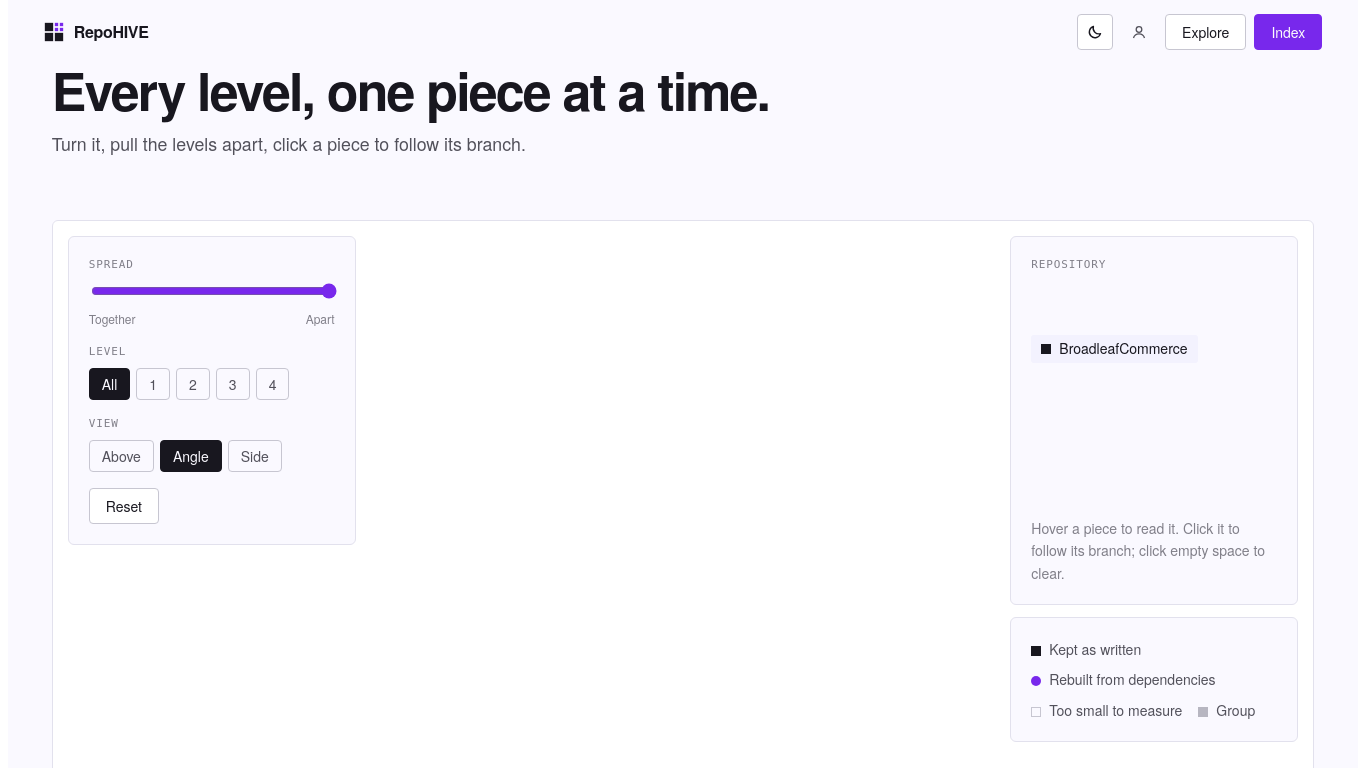
Test: the explorer's controls › isolates a level, changes the view, and resets
(page scrolled)
Click the button "3".
click(233, 384)  # box top-left (216, 368), bottom-right (250, 400)
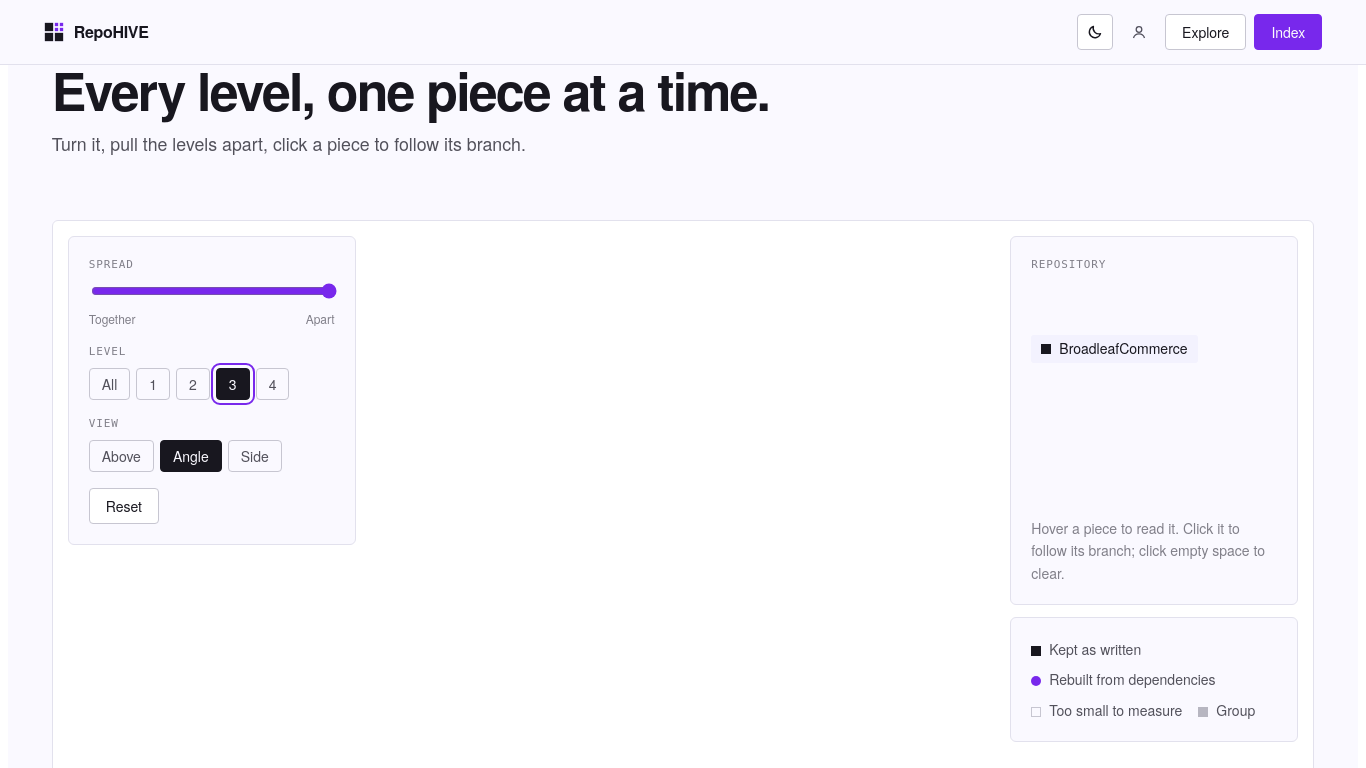
Check: the button "3" is pressed, box top-left (216, 368), bottom-right (250, 400)
Check: the button "All" is not pressed, box top-left (89, 368), bottom-right (130, 400)
Click the button "Above".
click(121, 456)  # box top-left (89, 440), bottom-right (154, 472)
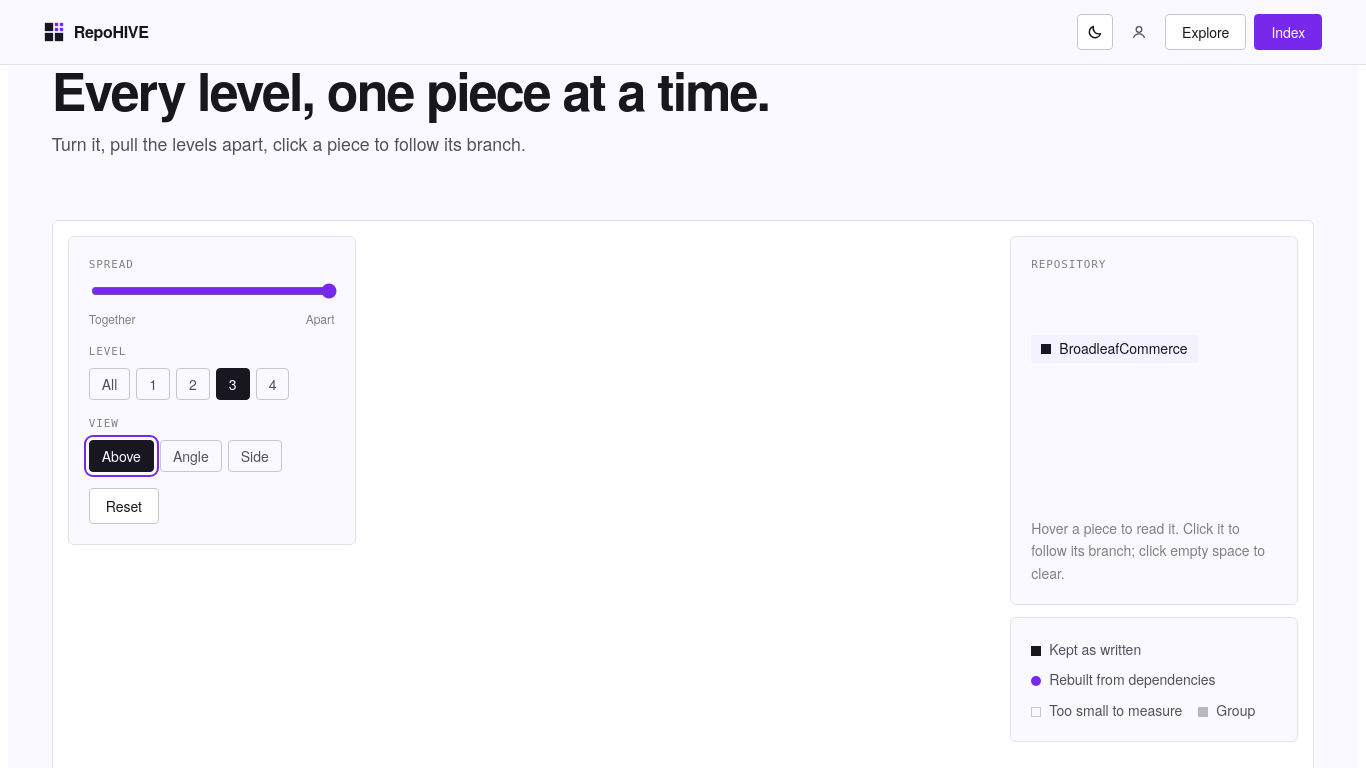
Check: the button "Above" is pressed, box top-left (89, 440), bottom-right (154, 472)
Check: the button "Angle" is not pressed, box top-left (160, 440), bottom-right (222, 472)
Set the slider labelled "Spread" to "20" at (145,291), box top-left (91, 283), bottom-right (337, 299)
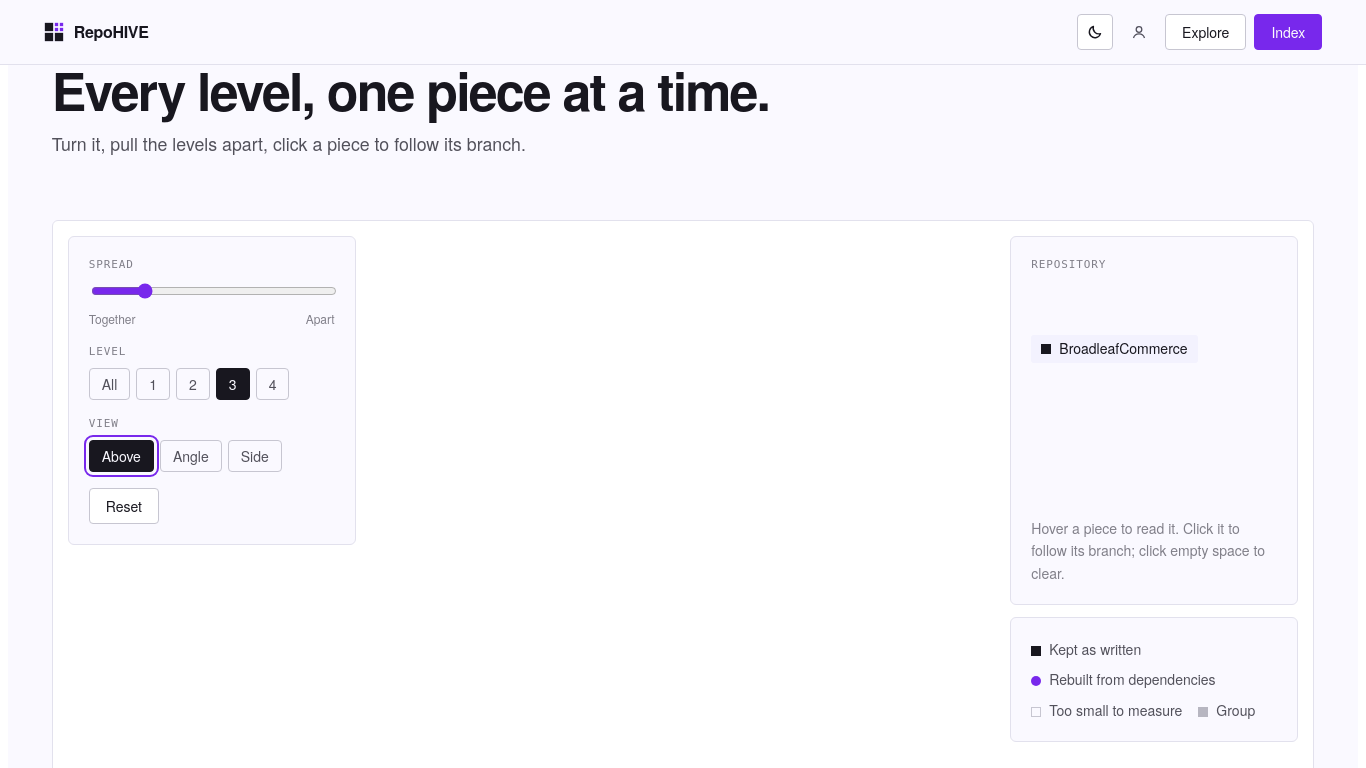
Click the button "Reset".
click(124, 506)  # box top-left (89, 488), bottom-right (159, 524)
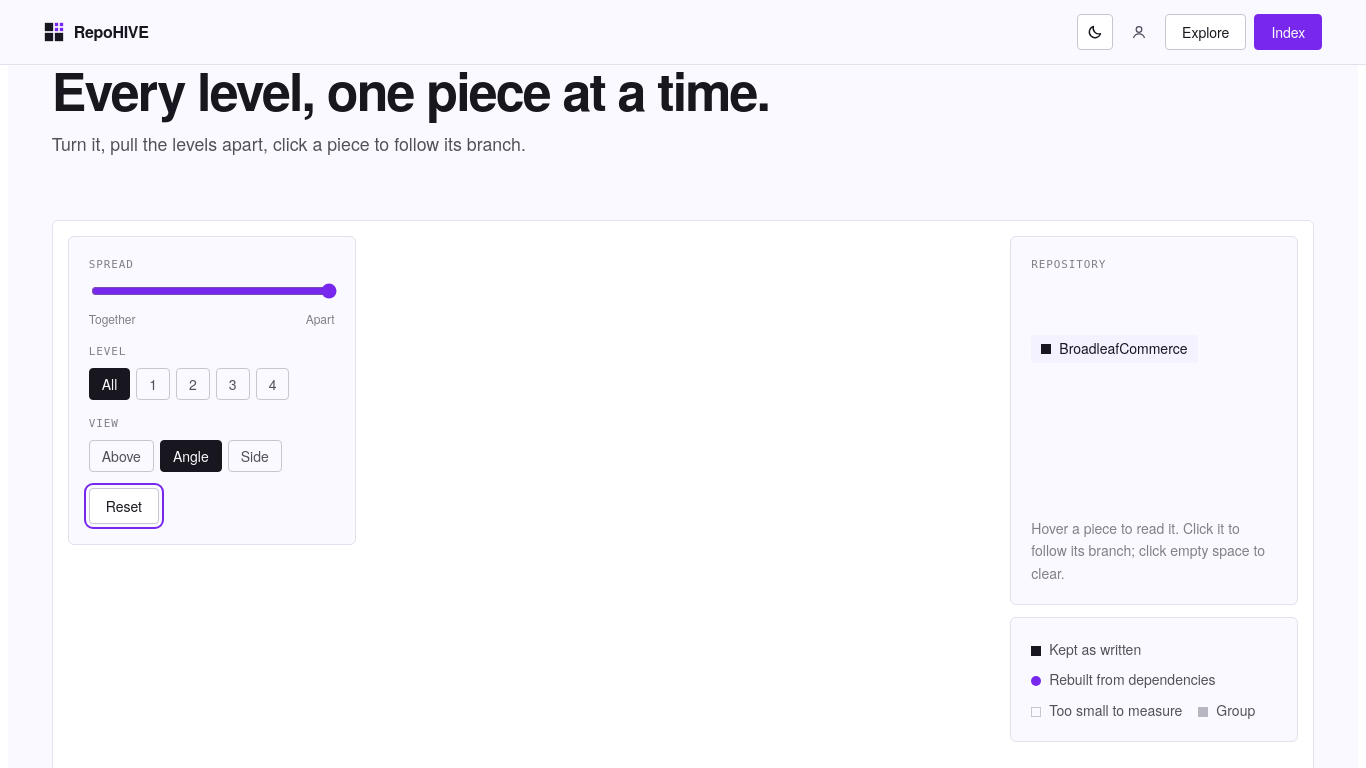
Check: the slider labelled "Spread" holds "100", box top-left (91, 283), bottom-right (337, 299)
